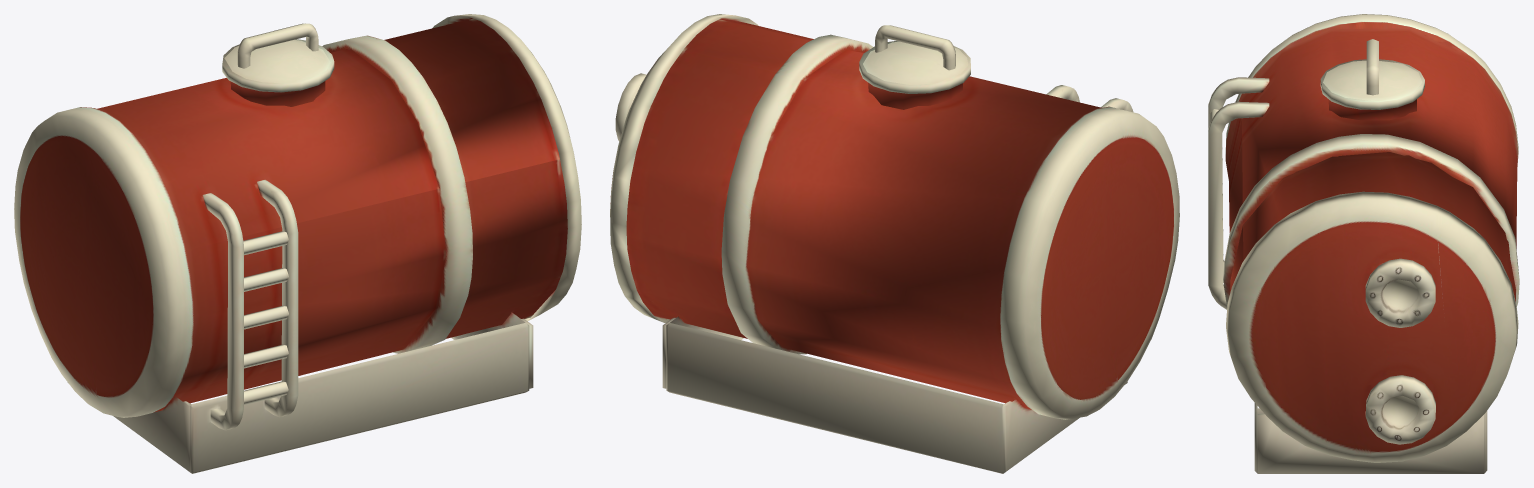
File: wl_tank_horizontal.glb
3 renders of one model, left to right at view 1: azimuth 30°, elevation 25°; view 2: azimuth 150°, elevation 25°; view 3: azimuth 270°, elevation 25°, orthographic. The views are drawn at different scales.
Visible parts, largest first — view 1: wl_tank_horizontal; view 2: wl_tank_horizontal; view 3: wl_tank_horizontal.
Boxes of the visible parts, bbox=[...] form: wl_tank_horizontal: bbox=[14, 14, 581, 473]; wl_tank_horizontal: bbox=[610, 14, 1179, 473]; wl_tank_horizontal: bbox=[1208, 14, 1519, 473].
Size of the model in its own units: 0.9995 by 0.7515 by 0.6304.
Materials: 1 (1 with a texture image).
